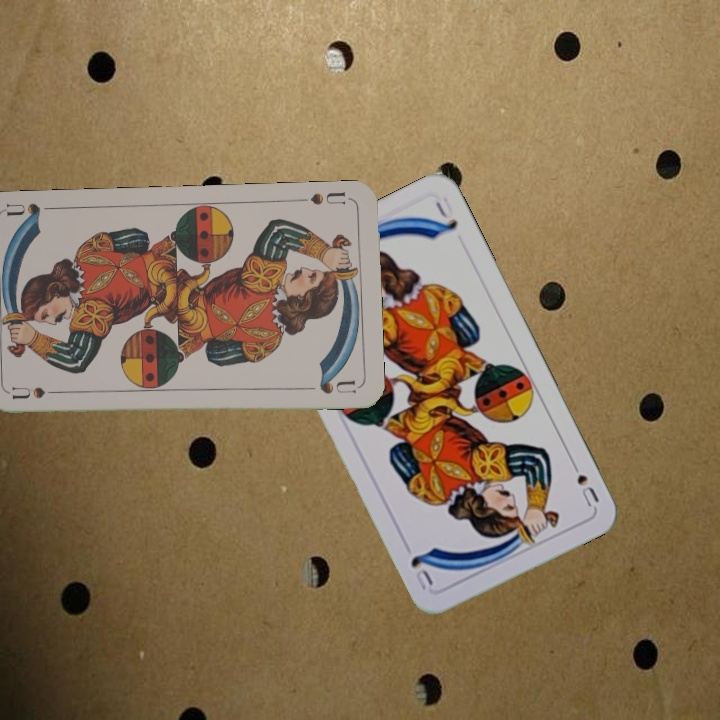SU: (565, 454, 602, 510), (9, 383, 68, 402), (306, 187, 348, 207)
